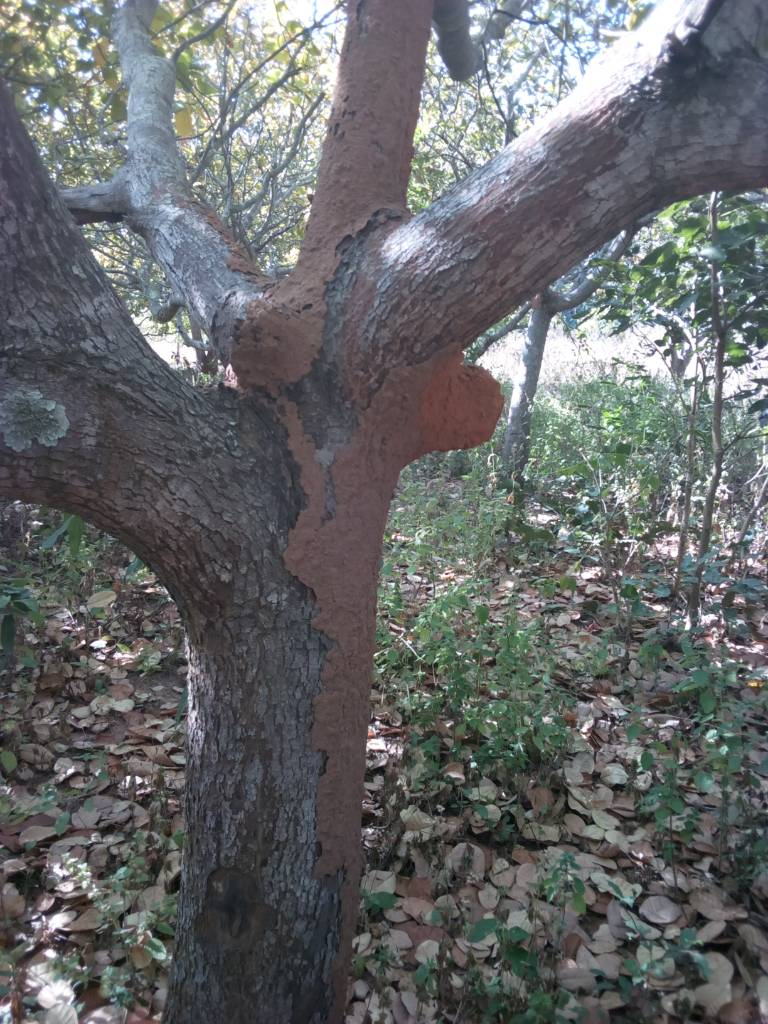Termites: (294, 416, 380, 899), (322, 2, 424, 232), (238, 267, 330, 394), (404, 369, 500, 449)
